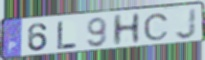6: (27, 23, 49, 53)
9: (86, 16, 109, 48)
C: (142, 12, 170, 42)
H: (112, 11, 143, 48)
J: (174, 8, 198, 41)
L: (56, 20, 79, 51)
